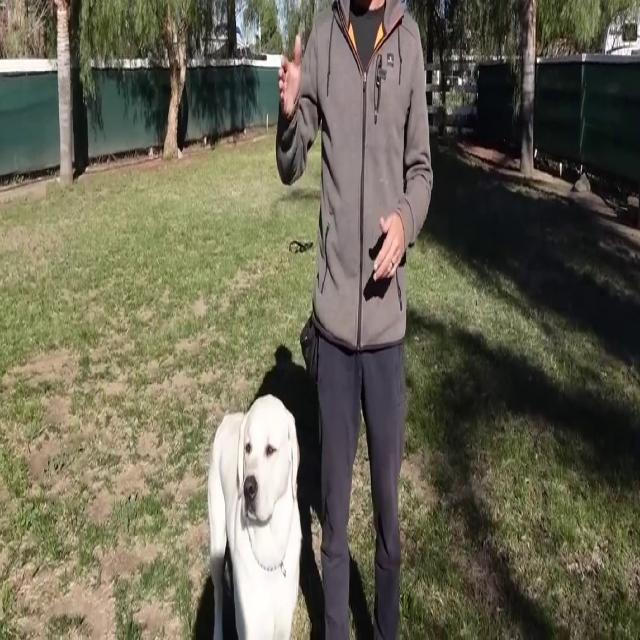Unleashed_Dog: (208, 329, 364, 640)
